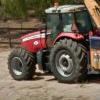Tractor: (6, 7, 100, 89)
